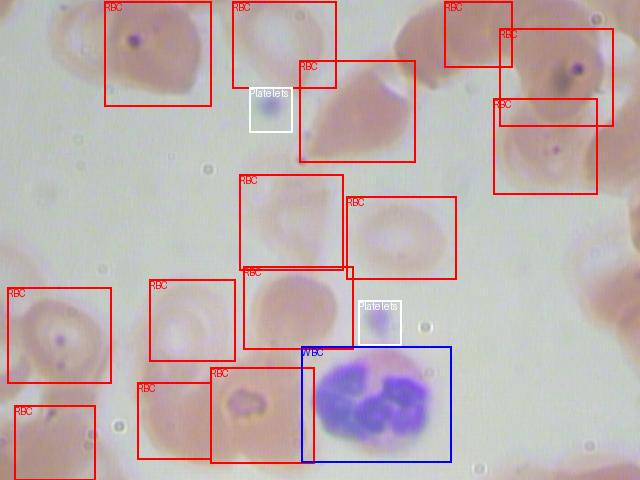Platelets: (358, 300, 401, 345), (249, 87, 292, 132)
RBC: (299, 60, 415, 162), (104, 1, 211, 106), (499, 28, 613, 126), (239, 174, 343, 270), (7, 287, 111, 383), (210, 367, 314, 463), (493, 98, 597, 194), (346, 196, 456, 279), (243, 266, 353, 349), (232, 1, 336, 88), (149, 279, 235, 361), (14, 405, 95, 480), (137, 382, 211, 459), (444, 1, 512, 67)
WBC: (301, 346, 451, 462)
